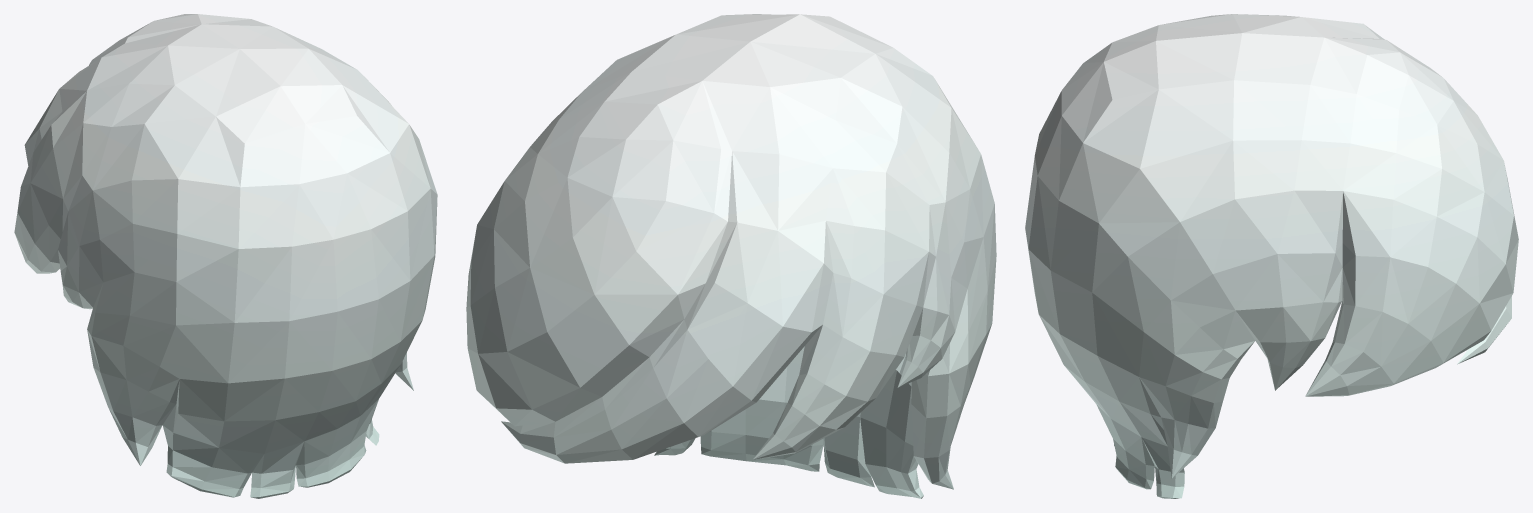
The model's file is CharSkyKid_Hair_AP20SlickBowlCut.glb.
The picture shows the model from 3 angles, left to right: view 1: azimuth 30°, elevation 25°; view 2: azimuth 150°, elevation 25°; view 3: azimuth 270°, elevation 25°; orthographic projection. The views are drawn at different scales.
Parts seen in each view (by area): view 1: CharSkyKid_Hair_AP20SlickBowlCut; view 2: CharSkyKid_Hair_AP20SlickBowlCut; view 3: CharSkyKid_Hair_AP20SlickBowlCut.
Boxes of the visible parts, <box> form: CharSkyKid_Hair_AP20SlickBowlCut: <box>14,14,437,498</box>; CharSkyKid_Hair_AP20SlickBowlCut: <box>466,14,996,498</box>; CharSkyKid_Hair_AP20SlickBowlCut: <box>1025,14,1518,498</box>.
Size of the model in its own units: 2.5 by 2.79 by 2.96.
Materials: 1 (1 with a texture image).
